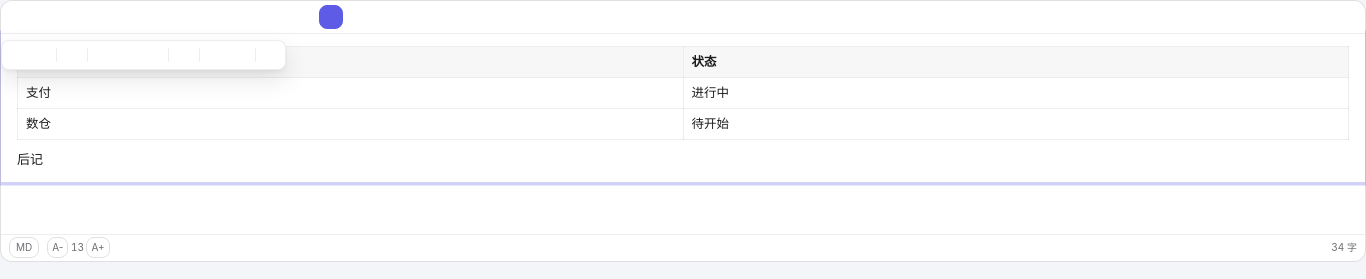
it: T63 · 行列增删 › 删除表格：整张表消失，正文其余内容还在
Expected: the element with test id "note-table-bar" is shown, [1,40,286,70]
Click the button with test id "table-tool-delete". click: (271, 55)
box: [259,43,283,67]
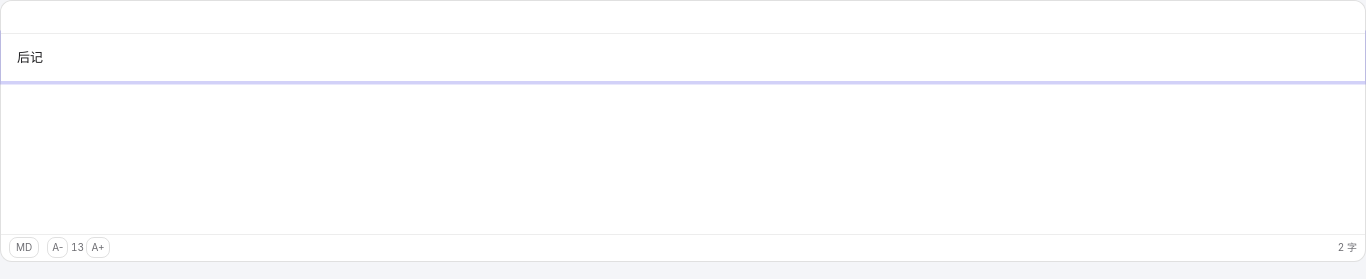
Expected: the element with test id "note-table-bar" is gone
